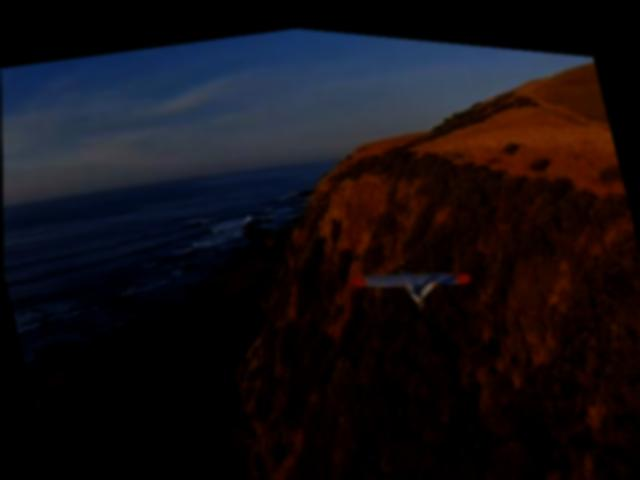uav: (344, 233, 478, 322)
